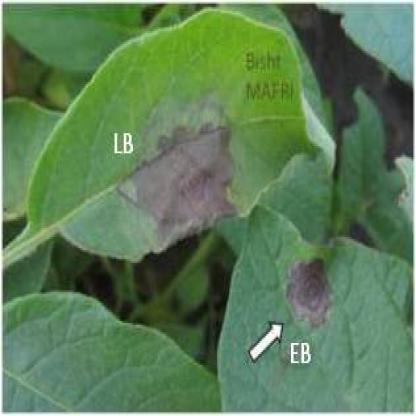potato leaf early blight: (24, 5, 312, 265), (213, 199, 415, 400)
